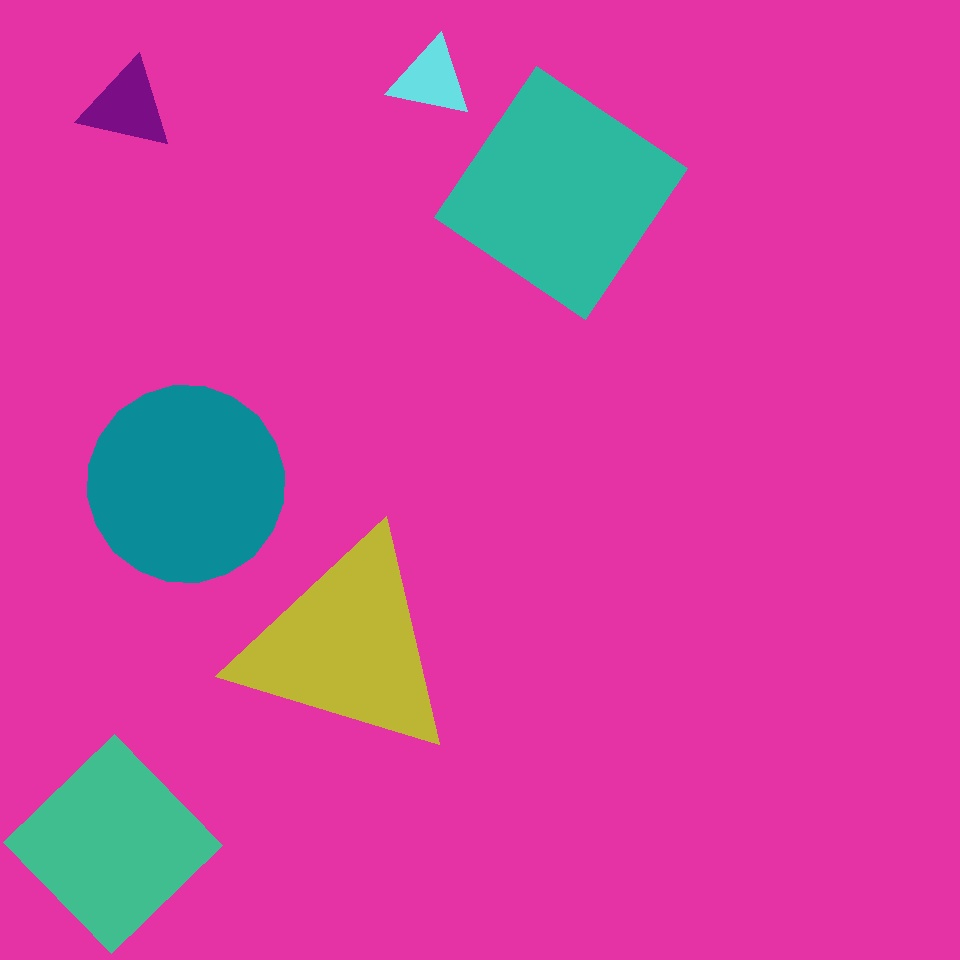circle: (203, 217, 462, 493), (235, 532, 459, 760), (354, 95, 456, 193), (80, 60, 174, 152), (390, 39, 472, 119)
square: (434, 66, 687, 320), (4, 734, 222, 954), (479, 239, 573, 333)
triangle: (88, 386, 284, 582), (97, 660, 237, 800), (642, 93, 759, 210), (717, 587, 815, 684)
